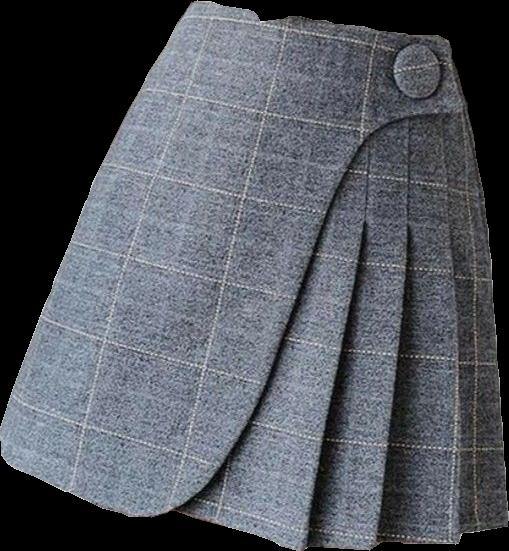Hemline: (0, 106, 465, 520), (174, 507, 508, 550)
Waistline: (192, 0, 447, 42)
